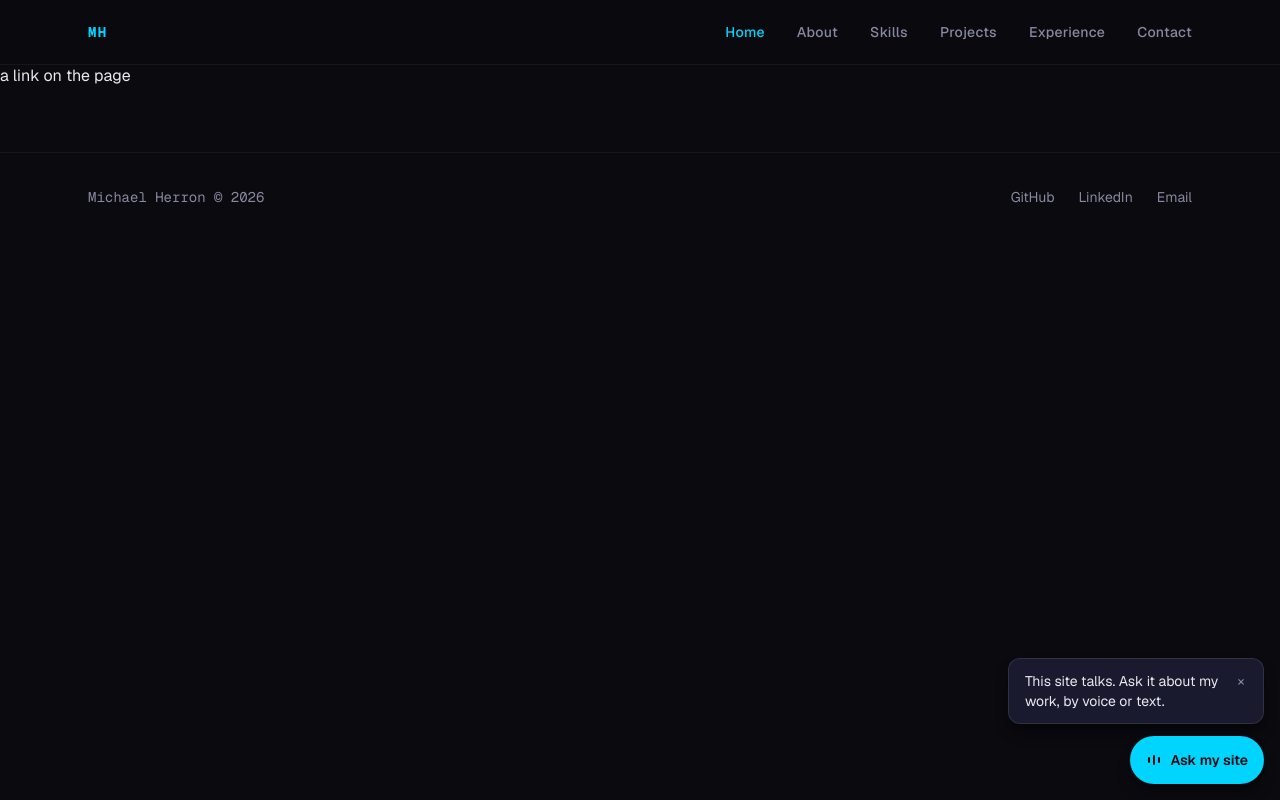
Test case: ConciergePanel › under the message box: the memory strip, then Memory · Latency · Privacy, Memory first
The image size is (1280, 800).
What coordinates should you click on to do the following:
click the button "Ask my site"
I would click on:
 (1197, 760)
Its box is [1130,736,1264,784].
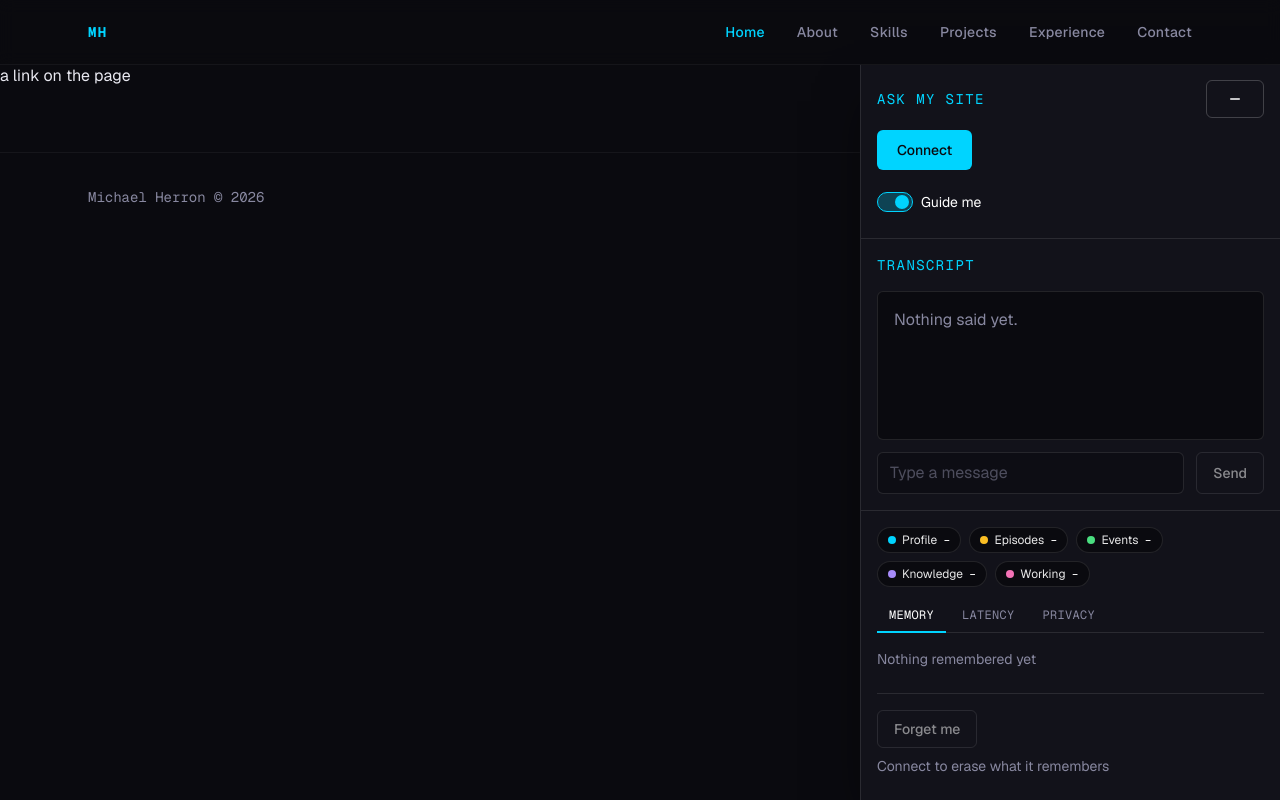
Now the tabs read "Memory", "Latency", "Privacy", in this order, box [877,599,946,633]; [950,599,1026,633]; [1030,599,1107,633]
